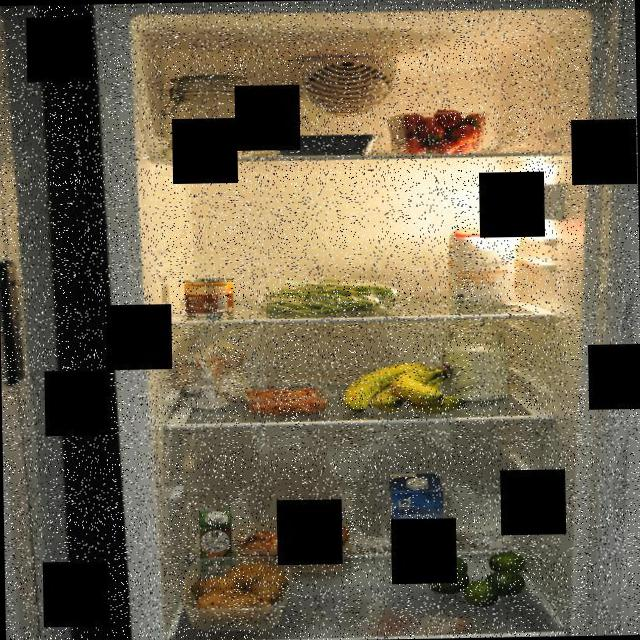Cebolla: (230, 516, 354, 576)
Gambas/Langostinos: (242, 387, 328, 417)
Leche: (387, 471, 447, 574)
Patata: (182, 552, 294, 632)
Plátano: (340, 360, 467, 416)
